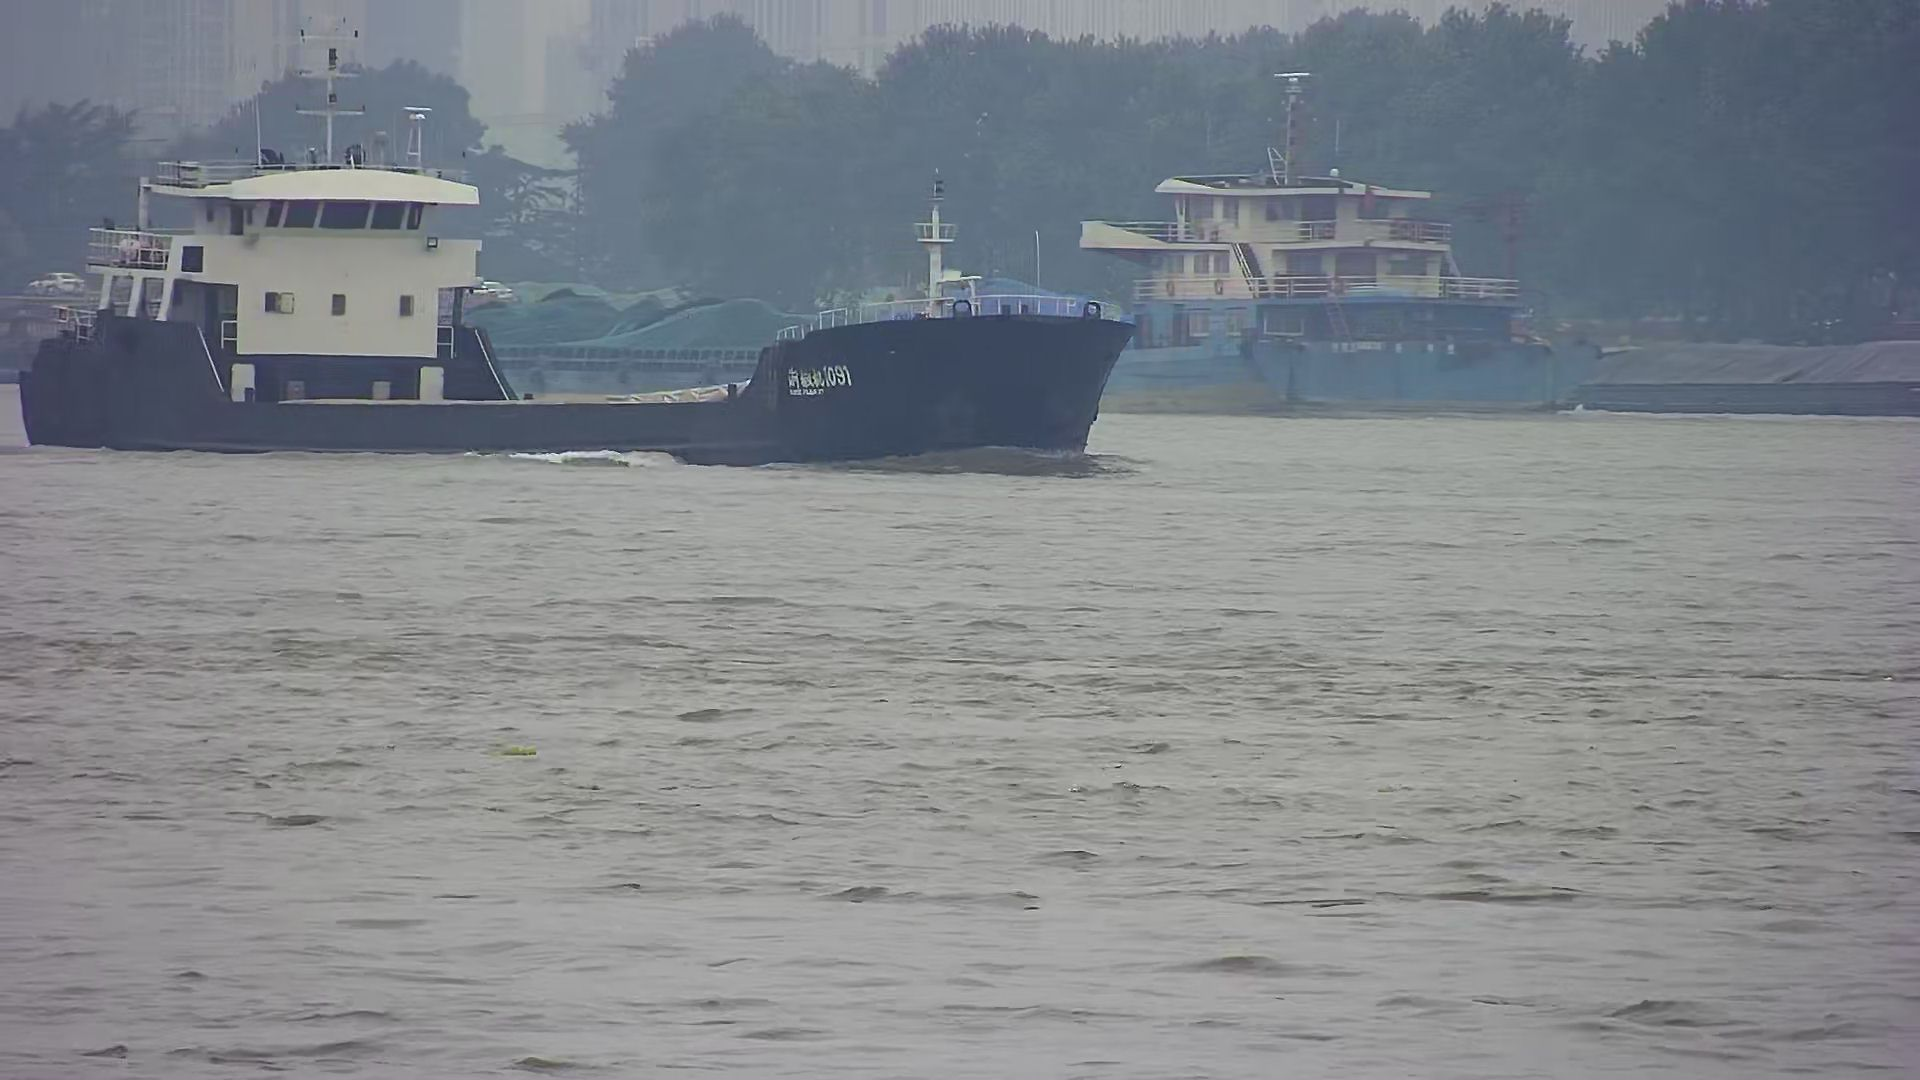ship: (1, 1, 1145, 487), (458, 51, 1598, 417)
